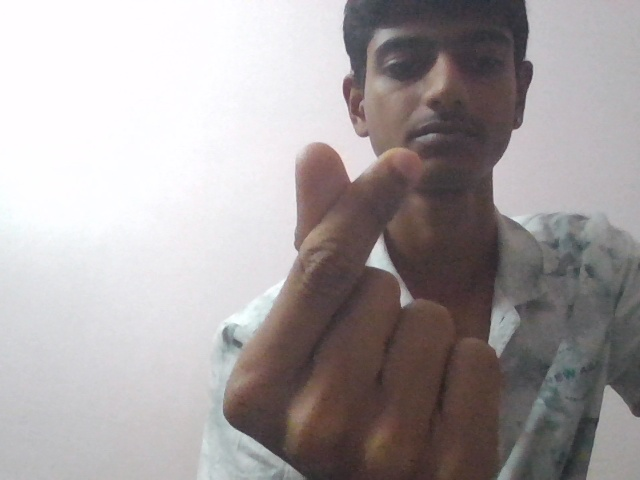iloveyou: (230, 132, 505, 479)
